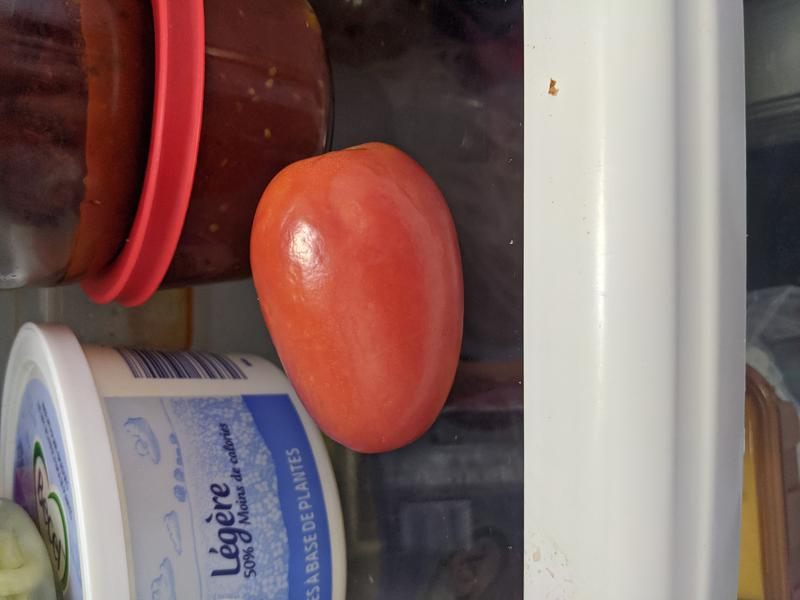tomato: (249, 142, 465, 456)
